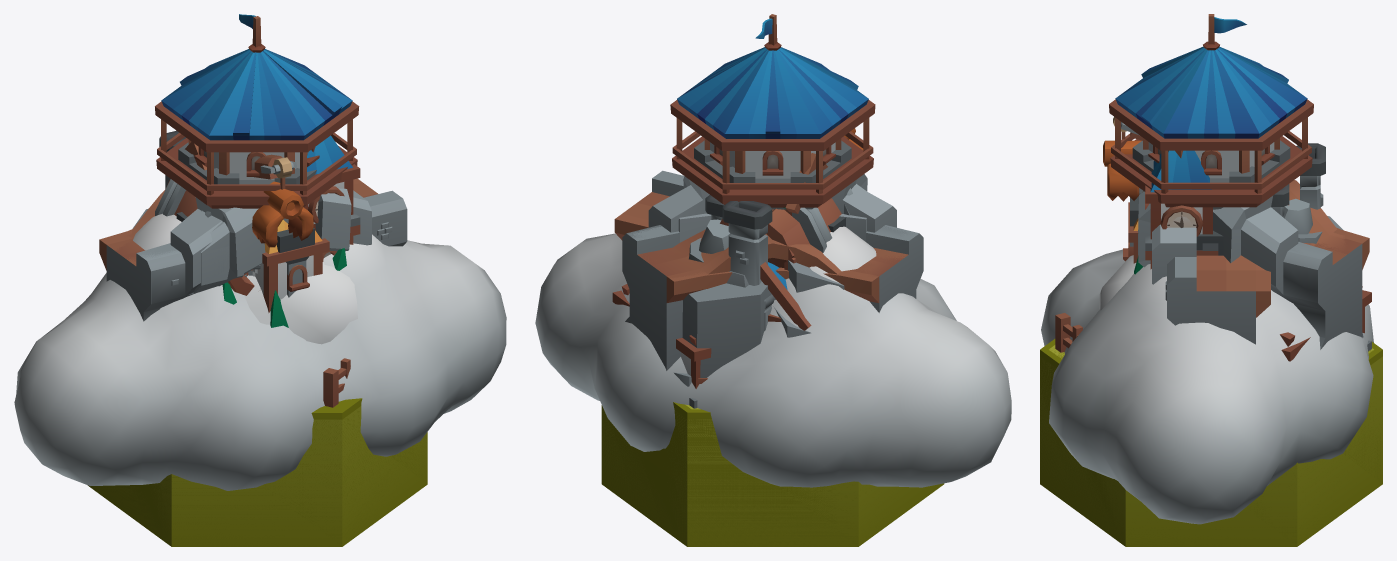
The model's file is burgo.glb.
3 views of the same model, side by side, from view 1: azimuth 30°, elevation 25°; view 2: azimuth 150°, elevation 25°; view 3: azimuth 270°, elevation 25° (orthographic).
Parts seen in each view (by area): view 1: cloud_big, hex_grass, building_tower_b_top_blue, hex_grass_bottom, wall_corner_a_gate, wall_straight_gate, cloud_small, wall_straight, building_lumbermill_top_green, building_church_yellow, building_townhall_blue, building_tower_a_top_red (+6 smaller); view 2: cloud_big, building_tower_b_top_blue, hex_grass, hex_grass_bottom, wall_corner_a_gate, wall_corner_a_outside, building_mine_red, building_townhall_blue, building_tavern_blue, wall_straight, building_tower_a_top_red, building_tower_a_red (+1 smaller); view 3: cloud_big, building_tower_b_top_blue, hex_grass, wall_corner_a_gate, wall_straight, hex_grass_bottom, building_townhall_blue, wall_corner_a_outside, wall_straight_gate, building_tower_a_top_red, building_stables_green, building_lumbermill_top_green (+4 smaller).
Part boxes in pixels (box(x1,y1,x2,y2)): cloud_big: box(14, 213, 506, 490); hex_grass: box(89, 406, 427, 546); building_tower_b_top_blue: box(155, 14, 359, 208); hex_grass_bottom: box(88, 398, 427, 546); wall_corner_a_gate: box(99, 190, 227, 321); wall_straight_gate: box(200, 188, 371, 287); cloud_small: box(244, 261, 357, 344); wall_straight: box(99, 178, 407, 320); building_lumbermill_top_green: box(185, 141, 313, 247); building_church_yellow: box(252, 219, 329, 312); building_townhall_blue: box(159, 130, 360, 261); building_tower_a_top_red: box(188, 140, 319, 179); cloud_big: box(535, 226, 1011, 487); building_tower_b_top_blue: box(670, 14, 875, 207); hex_grass: box(601, 404, 943, 546); hex_grass_bottom: box(601, 402, 944, 546); wall_corner_a_gate: box(622, 176, 912, 324); wall_corner_a_outside: box(626, 213, 923, 370); building_mine_red: box(682, 219, 844, 377); building_townhall_blue: box(722, 201, 811, 331); building_tavern_blue: box(720, 188, 852, 270); wall_straight: box(614, 170, 918, 300); building_tower_a_top_red: box(704, 138, 841, 178); building_tower_a_red: box(694, 140, 851, 209); cloud_big: box(1041, 249, 1373, 524); building_tower_b_top_blue: box(1109, 14, 1313, 207); hex_grass: box(1040, 345, 1382, 546); wall_corner_a_gate: box(1213, 180, 1349, 349); wall_straight: box(1152, 243, 1270, 344); hex_grass_bottom: box(1040, 339, 1382, 546); building_townhall_blue: box(1145, 143, 1325, 269); wall_corner_a_outside: box(1290, 227, 1369, 340); wall_straight_gate: box(1138, 188, 1265, 270); building_tower_a_top_red: box(1143, 138, 1279, 178); building_stables_green: box(1055, 286, 1371, 361); building_lumbermill_top_green: box(1103, 117, 1142, 201).
Size of the model in its own units: 19.73 by 19.06 by 12.63.
